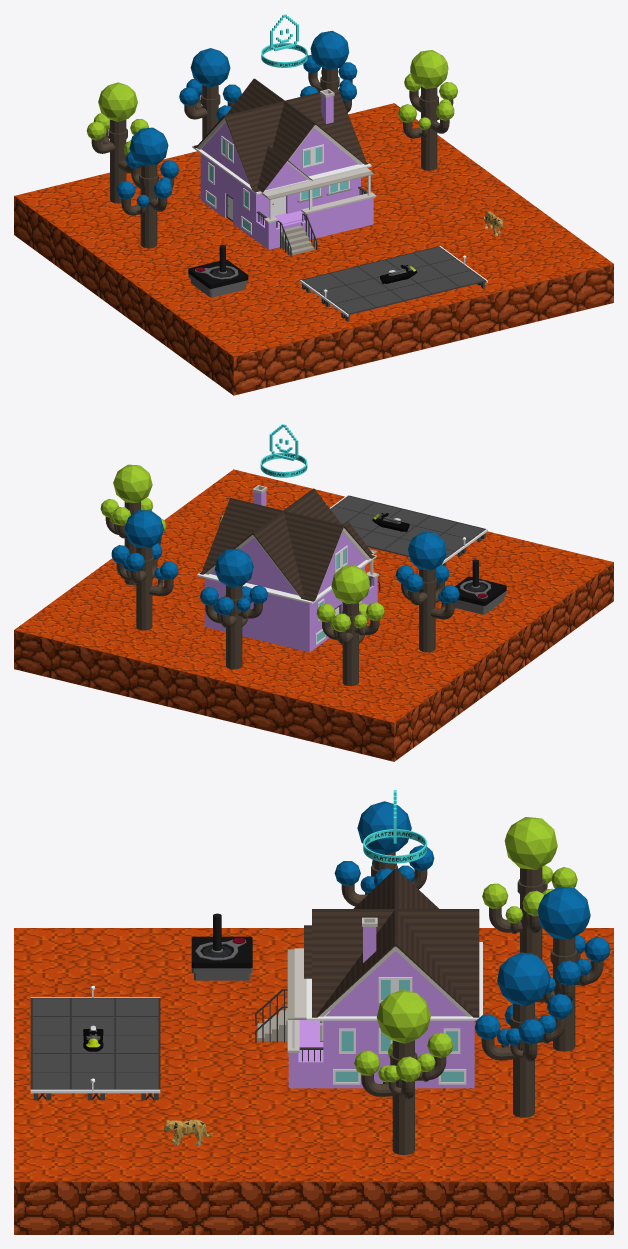
The picture shows the model from 3 angles, top to bottom: view 1: azimuth 30°, elevation 25°; view 2: azimuth 150°, elevation 25°; view 3: azimuth 270°, elevation 25°; orthographic projection. The views are drawn at different scales.
Parts seen in each view (by area): view 1: Cube.001, Cube.391, OBJRANDOM_JOYSTICK, TYPE_PREMIUM; view 2: Cube.001, Cube.391, OBJRANDOM_JOYSTICK, TYPE_PREMIUM; view 3: Cube.001, Cube.391, OBJRANDOM_JOYSTICK, TYPE_PREMIUM, ANIMAL_JAGUAR.
Part boxes in pixels (<box>): Cube.001: <box>14,30,613,395</box>; Cube.391: <box>192,78,376,256</box>; OBJRANDOM_JOYSTICK: <box>188,245,248,297</box>; TYPE_PREMIUM: <box>261,14,307,67</box>; Cube.001: <box>14,464,613,761</box>; Cube.391: <box>197,485,380,652</box>; OBJRANDOM_JOYSTICK: <box>455,559,506,614</box>; TYPE_PREMIUM: <box>260,424,307,477</box>; Cube.001: <box>14,801,613,1234</box>; Cube.391: <box>255,869,482,1088</box>; OBJRANDOM_JOYSTICK: <box>191,913,252,980</box>; TYPE_PREMIUM: <box>363,790,426,863</box>; ANIMAL_JAGUAR: <box>164,1119,213,1145</box>.
Bounding box in the file's own units: 4000 × 2410 × 4000.
42 materials, 5 textured.
